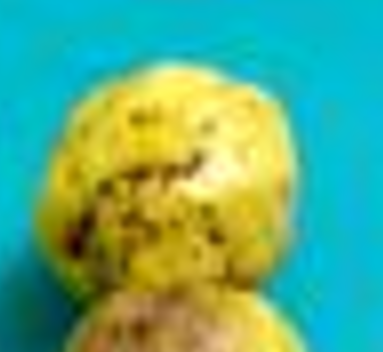guava_C: (30, 58, 305, 318)
